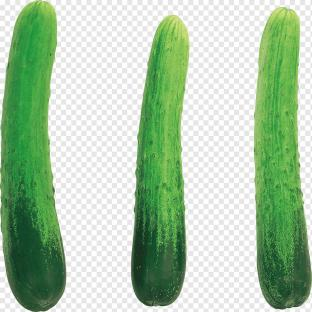Cucumber: (1, 1, 65, 311), (255, 8, 311, 308), (132, 16, 189, 306)
